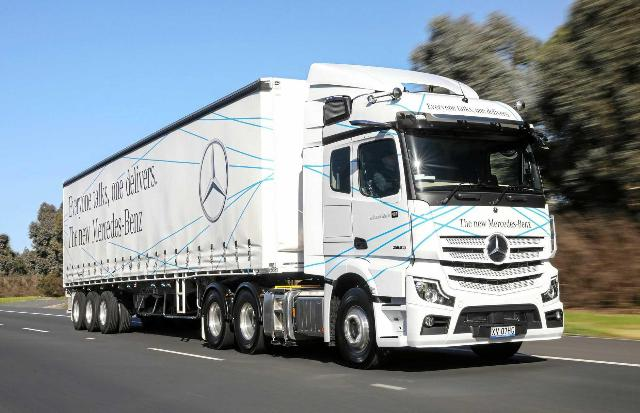truck: (31, 59, 597, 382)
